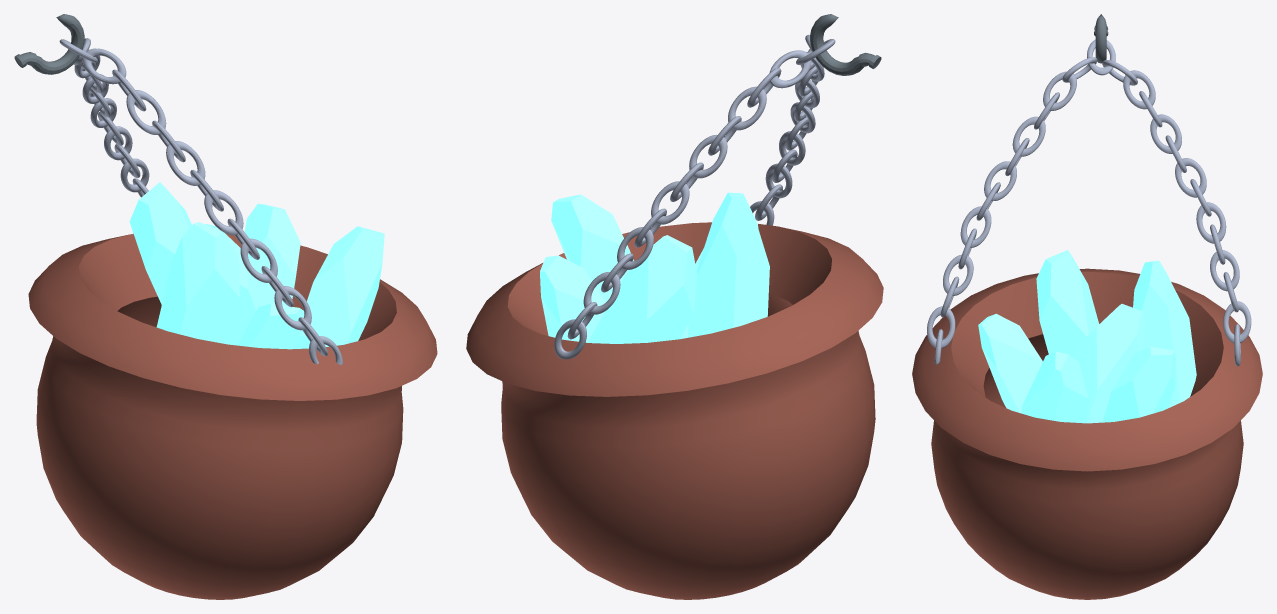
The model's file is Crystal_Pot.fbx.
The picture shows the model from 3 angles, left to right: view 1: azimuth 30°, elevation 25°; view 2: azimuth 150°, elevation 25°; view 3: azimuth 270°, elevation 25°; orthographic projection. The views are drawn at different scales.
Parts seen in each view (by area): view 1: Crystal_Pot; view 2: Crystal_Pot; view 3: Crystal_Pot.
Part boxes in pixels (box(x1,y1,x2,y2)): Crystal_Pot: box(14, 14, 437, 599); Crystal_Pot: box(466, 14, 883, 599); Crystal_Pot: box(912, 14, 1262, 599).
Size of the model in its own units: 859 by 1275 by 799.
